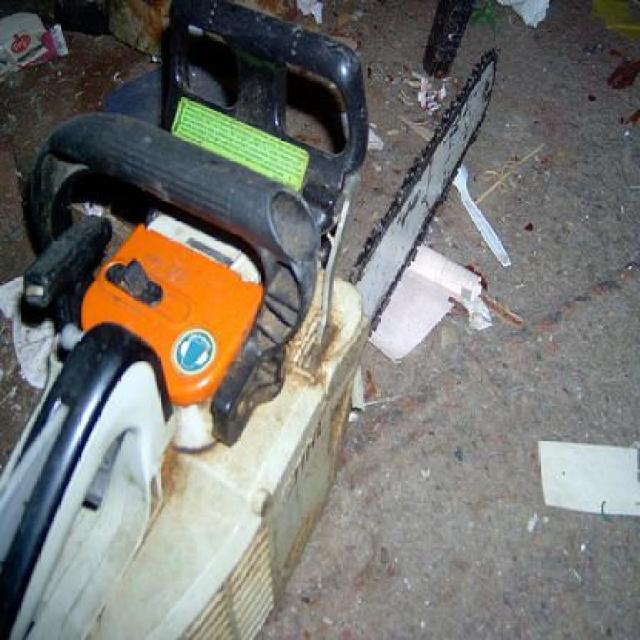Chainsaw: (0, 1, 498, 638)
